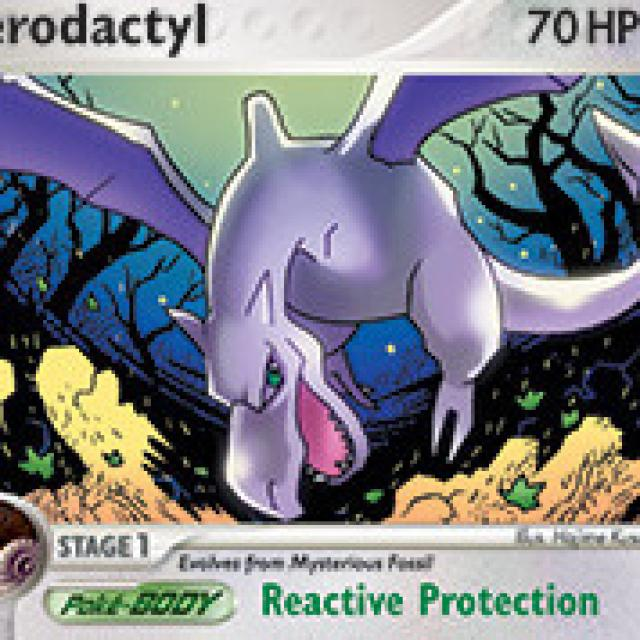Aerodactyl: (157, 82, 515, 524)
